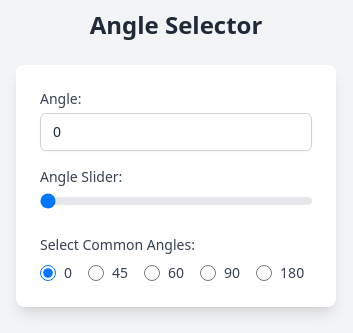
Test case: AngleSelector Component › updates angle on input change
Replace the text in the number field labelled "Angle:" with "45" at (176, 132), box [40,113,312,151]
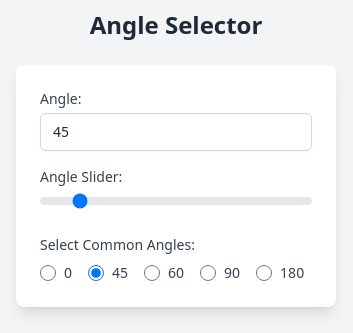
Now the slider labelled "Angle Slider:" holds "45", box [40,197,312,205]
